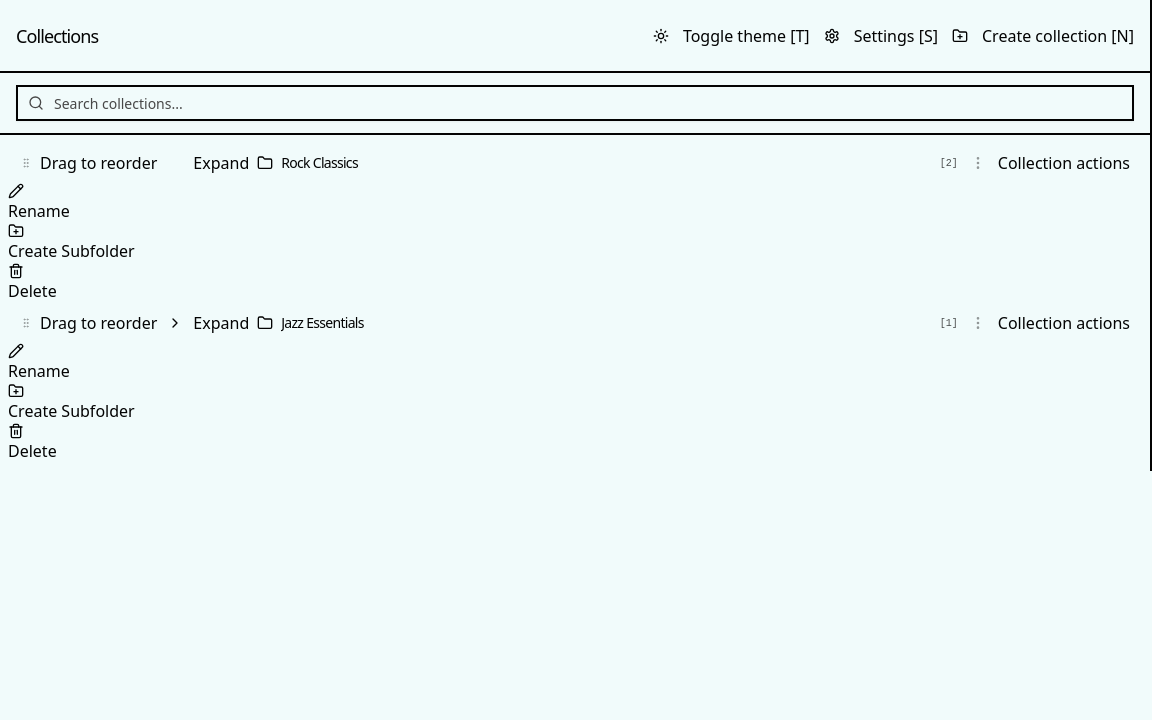
Test: FolderTree Search › filters folders by artist name
The image size is (1152, 720).
Type "Miles Davis" into the field with placeholder "Search collections..." at (575, 103), box [16,85,1134,121]
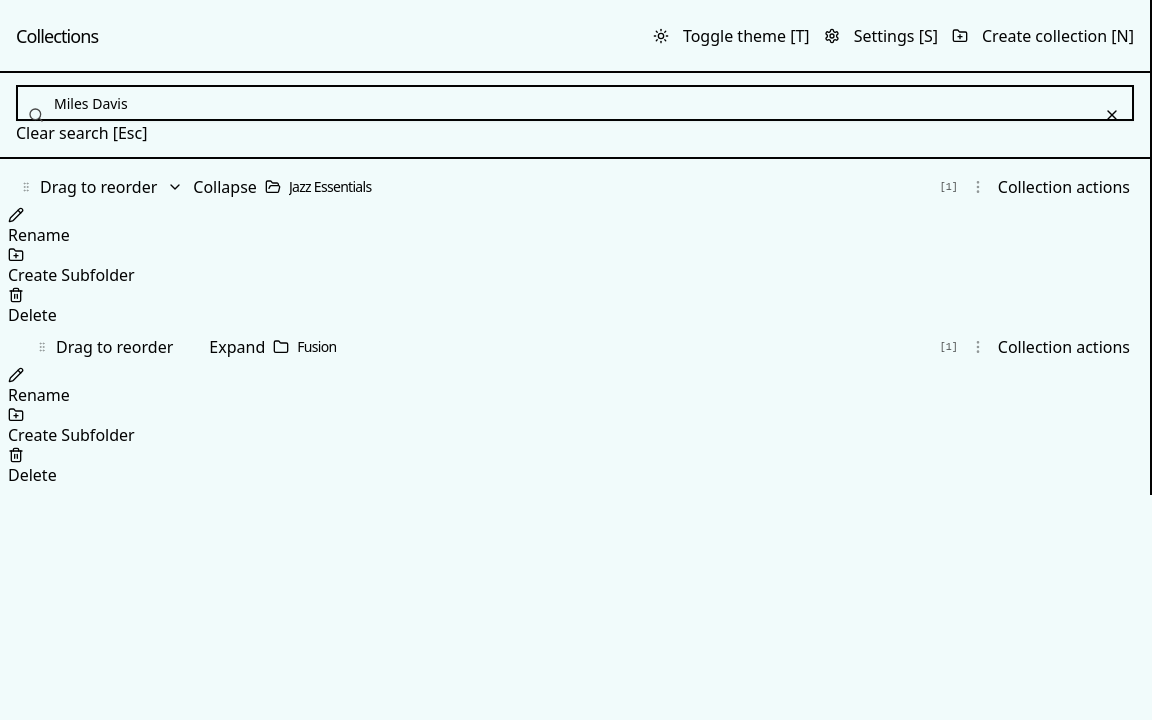
Expected: the text "Jazz Essentials" is shown, [289,177,372,196]
Expected: the text "Fusion" is shown, [297,337,336,356]
Expected: the text "Rock Classics" is gone
